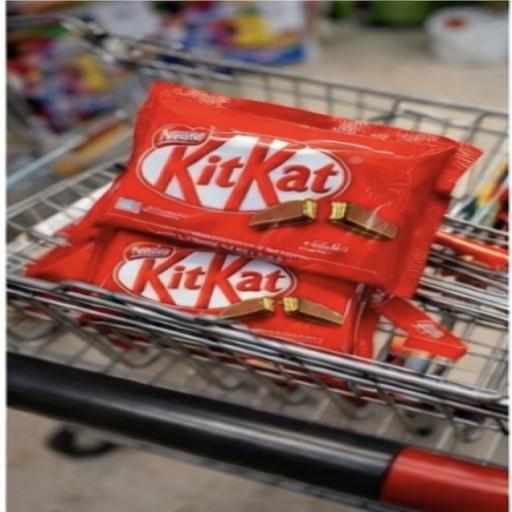kitkat: (92, 55, 504, 284)
